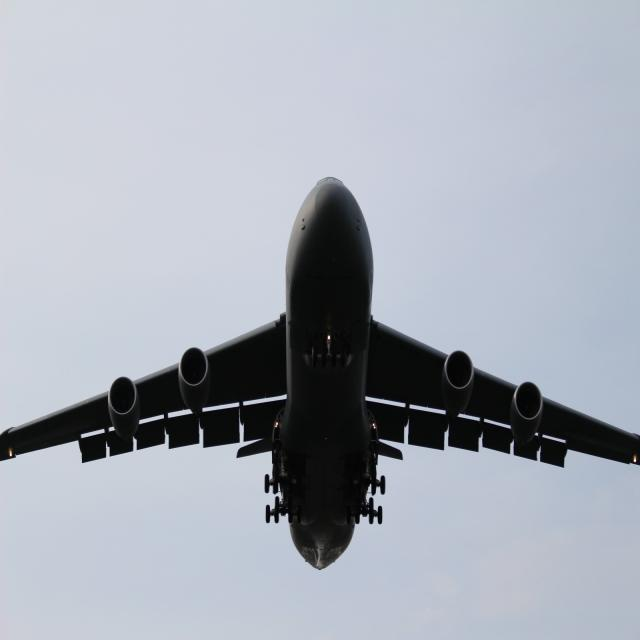MIL_Plane: (0, 131, 640, 526)
